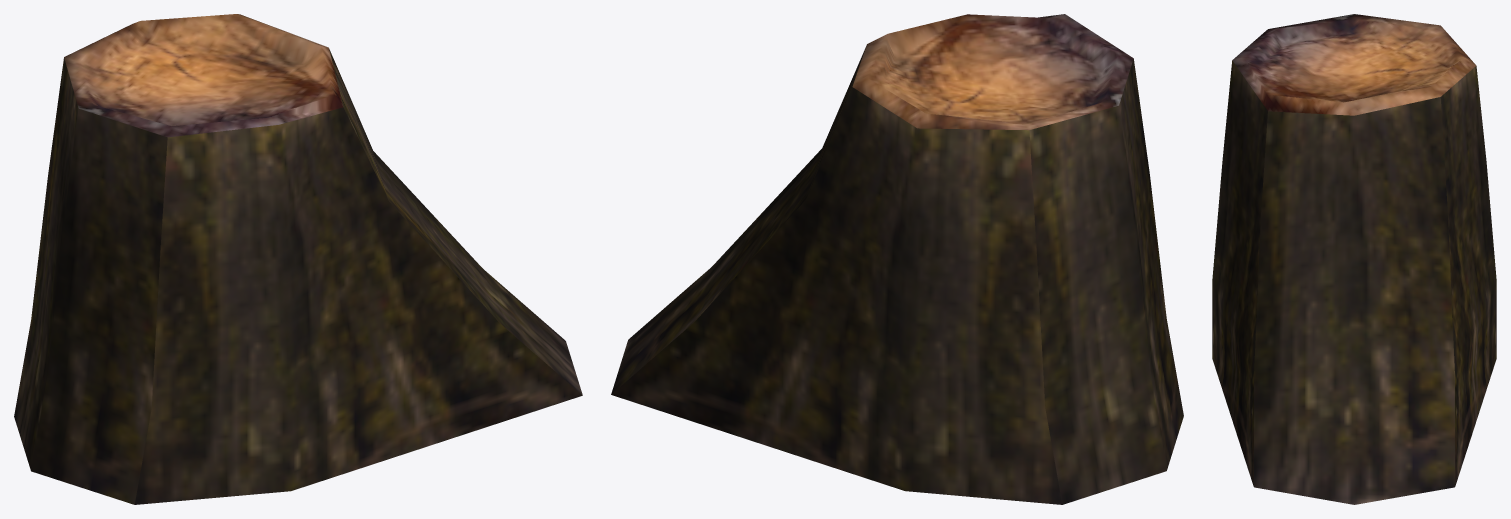
The model's file is swamp_trunk_1.FBX.
3 views of the same model, side by side, from view 1: azimuth 30°, elevation 25°; view 2: azimuth 150°, elevation 25°; view 3: azimuth 270°, elevation 25° (orthographic). The views are drawn at different scales.
Parts seen in each view (by area): view 1: swamp_trunk_1; view 2: swamp_trunk_1; view 3: swamp_trunk_1.
Boxes of the visible parts, x1,y1,x2,y2 form: swamp_trunk_1: [14, 14, 582, 504]; swamp_trunk_1: [611, 14, 1183, 504]; swamp_trunk_1: [1212, 14, 1496, 504].
Bounding box in the file's own units: 90.31 × 58.5 × 49.91.
